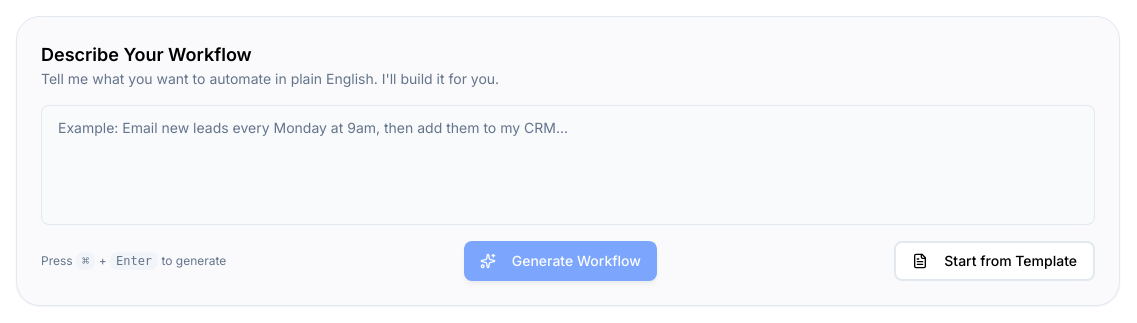
Scenario: FlowBuilder Component › should show loading state when generating
Step 1. Type "Test workflow" into the text box with placeholder "Example:" → (568, 165), box [41,105,1095,225]
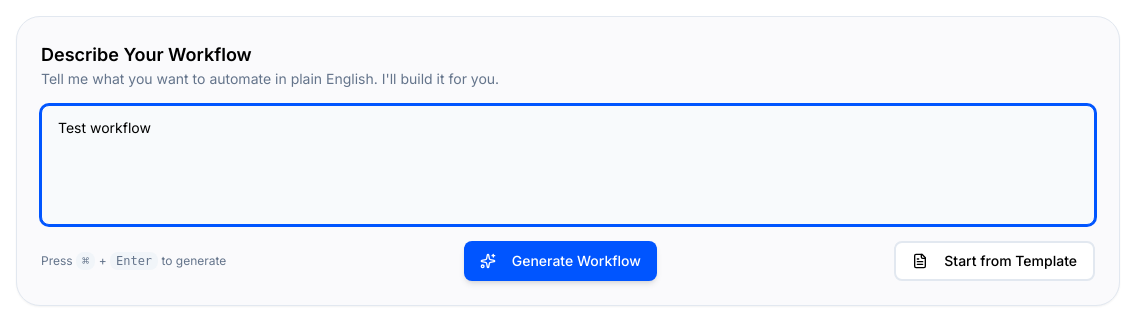
Step 2. Click the button "Generate Workflow" → (560, 261), box [464,241,657,281]
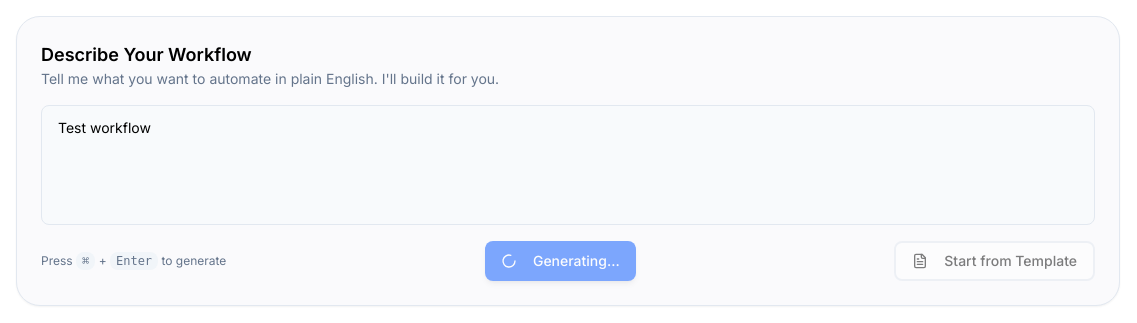
Check: the button "Generating..." is shown, box [485,241,636,281]
